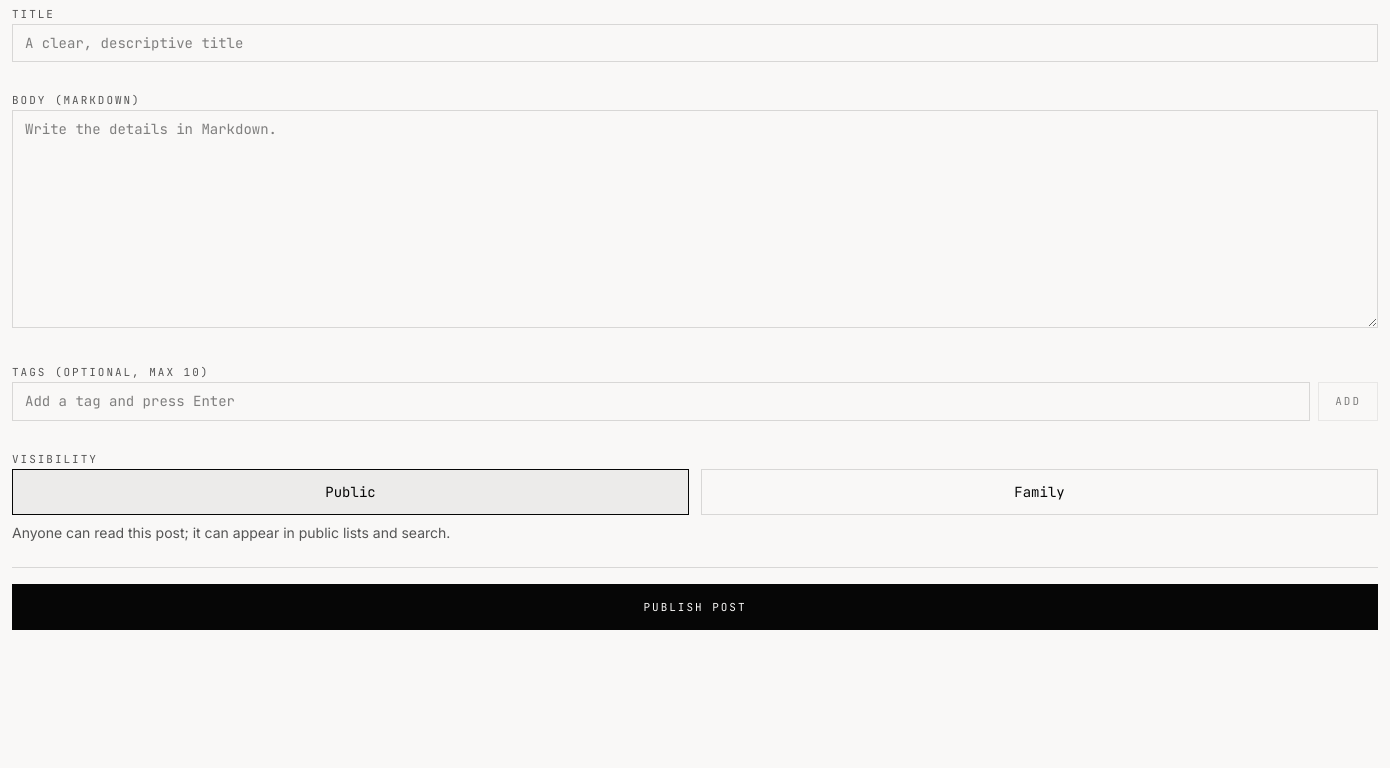
Test case: PostComposer › displays the API error message and never refers to a problem or idea
Type "x" into the field labelled "TITLE".
click(695, 43); type("x")  # box [12, 24, 1378, 62]
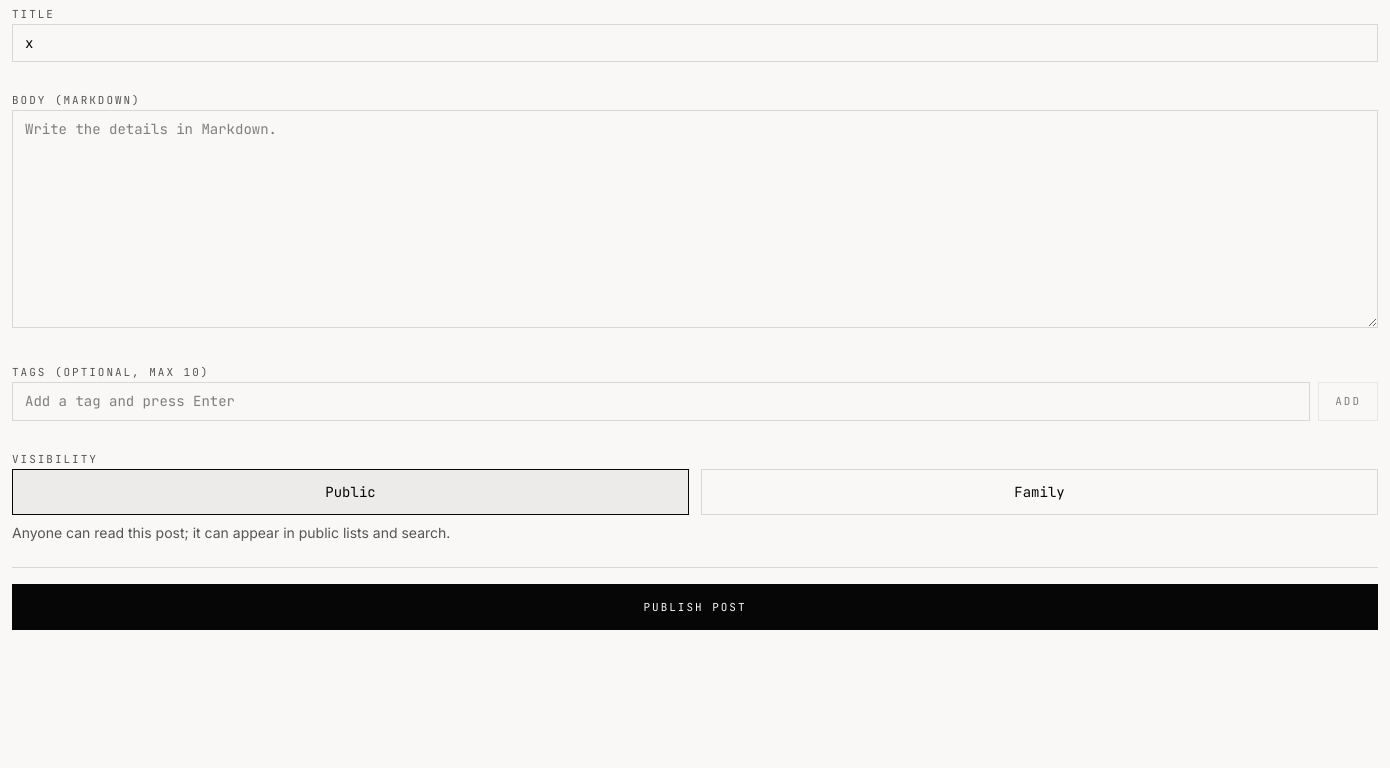
Click the button "PUBLISH POST".
click(695, 607)  # box [12, 584, 1378, 630]
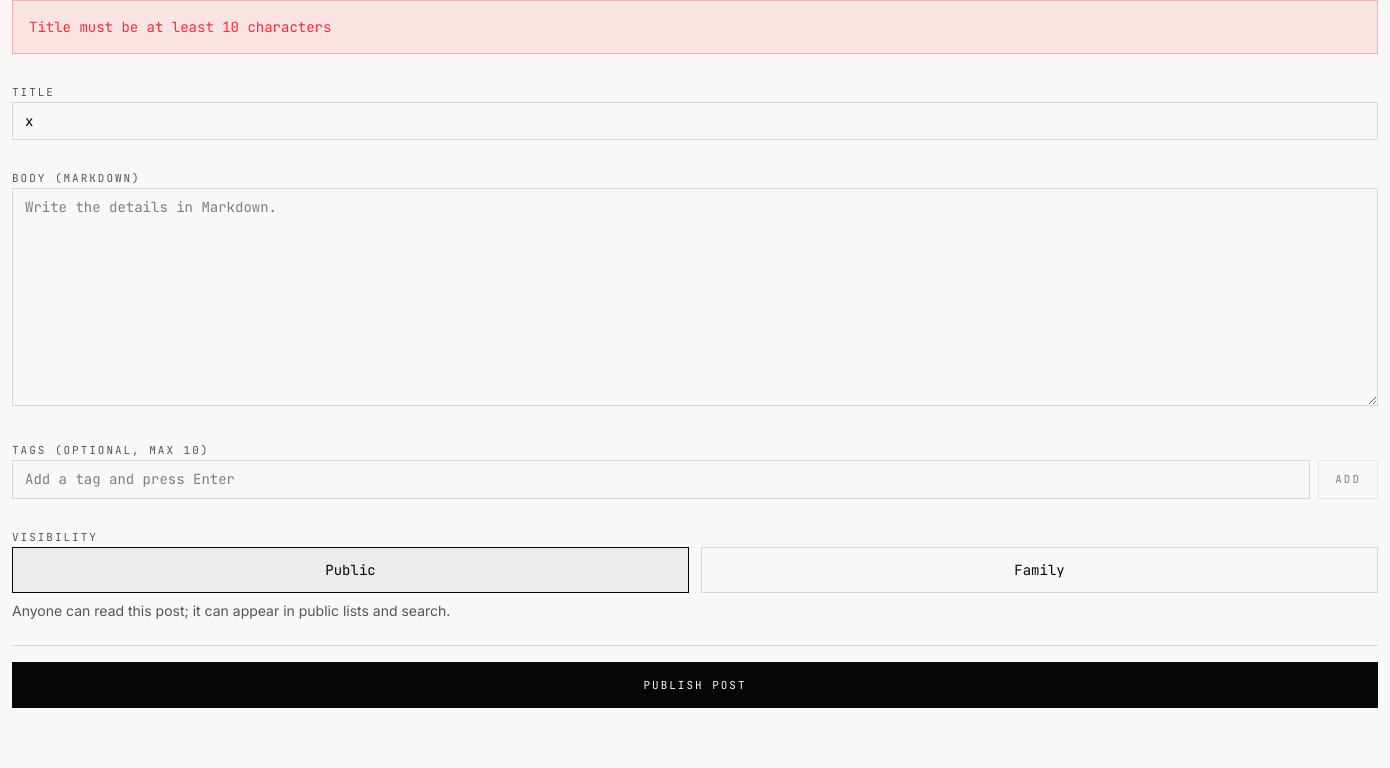
Check: the text "Title must be at least 10 characters" is shown, box [12, 0, 1378, 54]
